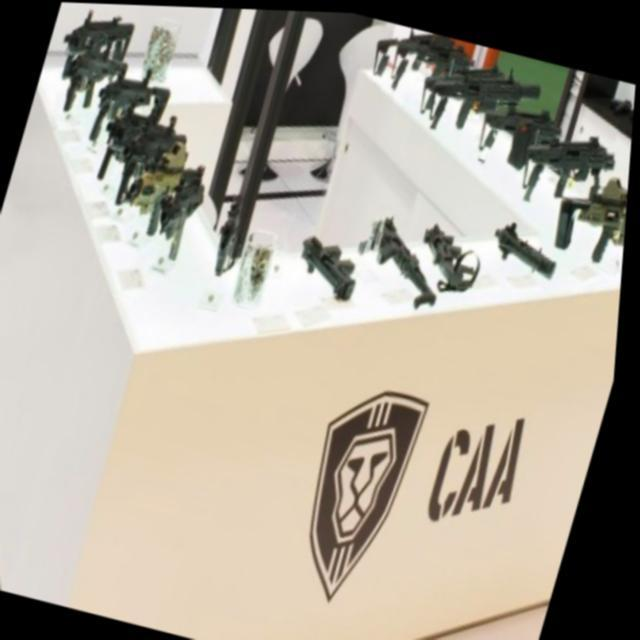weapon: (330, 16, 640, 269), (348, 203, 461, 314), (509, 110, 633, 208), (421, 43, 544, 136), (542, 152, 632, 266), (148, 148, 214, 270), (120, 124, 198, 226), (364, 17, 468, 92), (478, 81, 568, 167), (410, 213, 494, 300), (90, 68, 176, 148), (290, 223, 372, 304), (96, 104, 188, 176), (57, 2, 142, 67), (207, 184, 258, 287), (488, 212, 568, 274), (54, 58, 129, 120)
